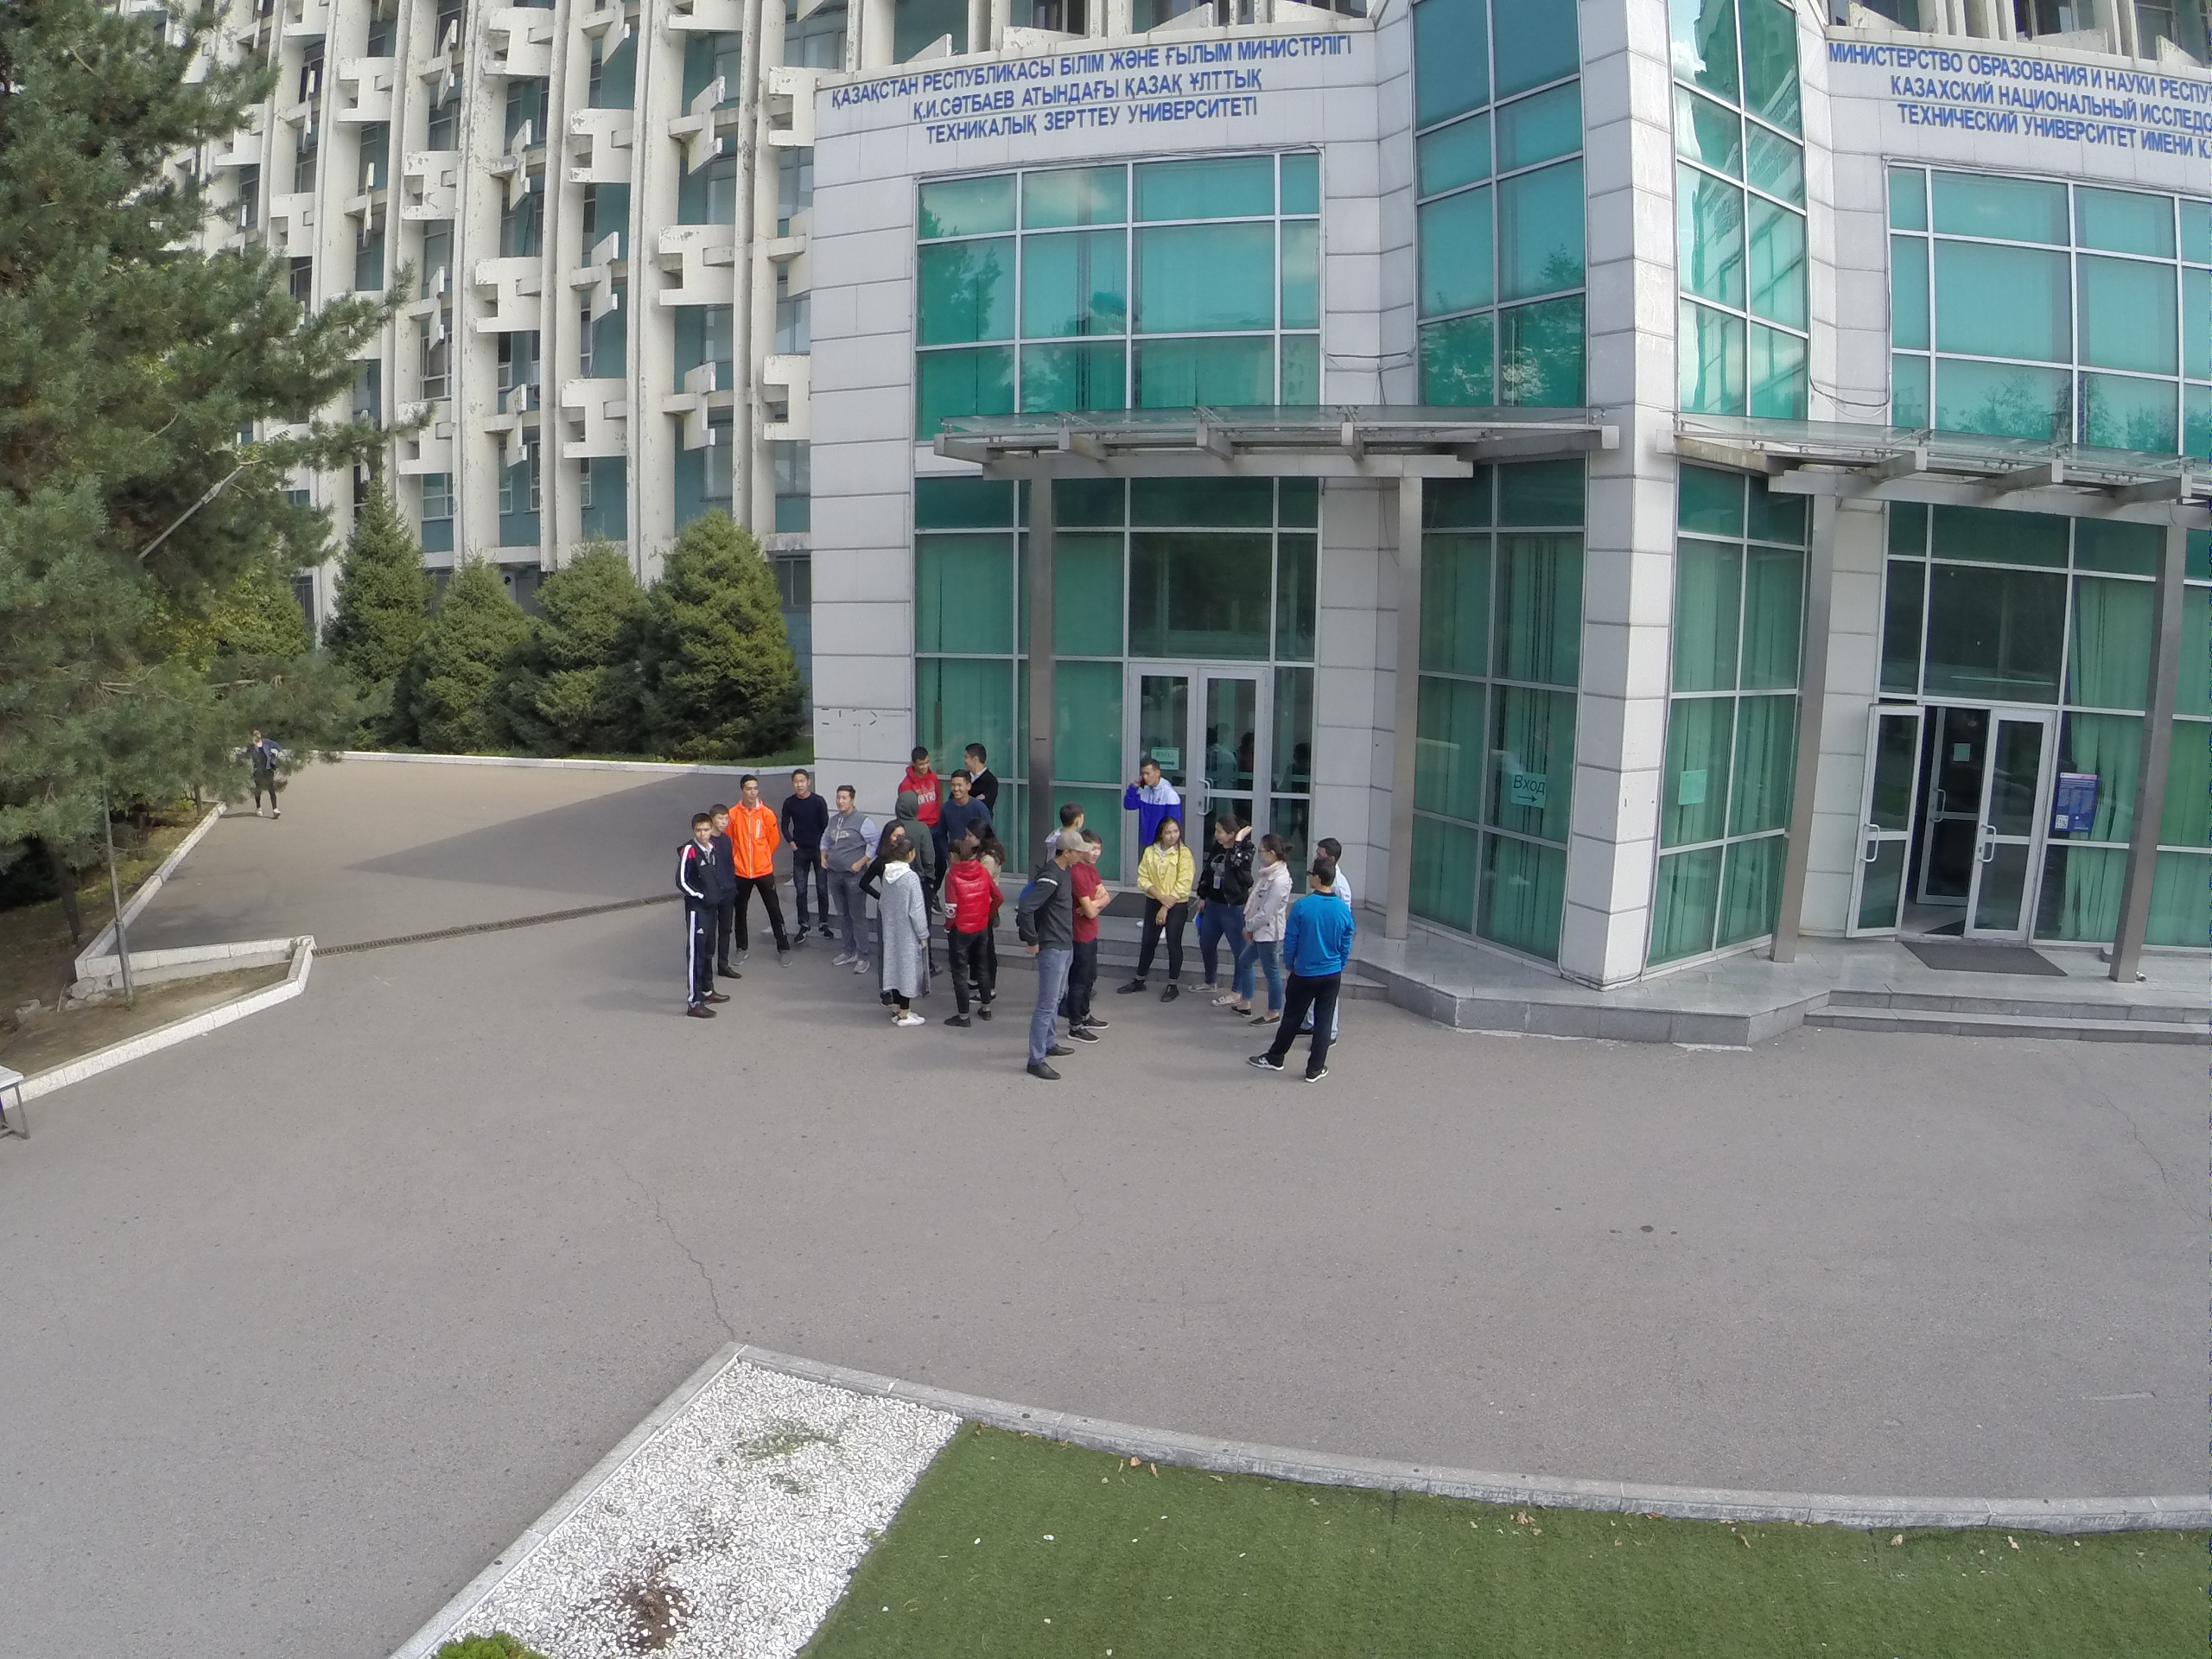person: (1259, 861, 1357, 1082), (1023, 831, 1077, 1088), (679, 817, 731, 1020), (822, 785, 880, 969), (1239, 845, 1297, 1023), (939, 849, 999, 1026), (738, 772, 792, 963), (1137, 823, 1194, 1002), (1198, 817, 1253, 1006), (780, 768, 836, 950), (880, 844, 932, 1033), (1078, 836, 1109, 1046), (715, 804, 747, 982), (1123, 753, 1179, 823), (943, 771, 993, 825), (903, 748, 942, 801), (964, 742, 996, 796)
